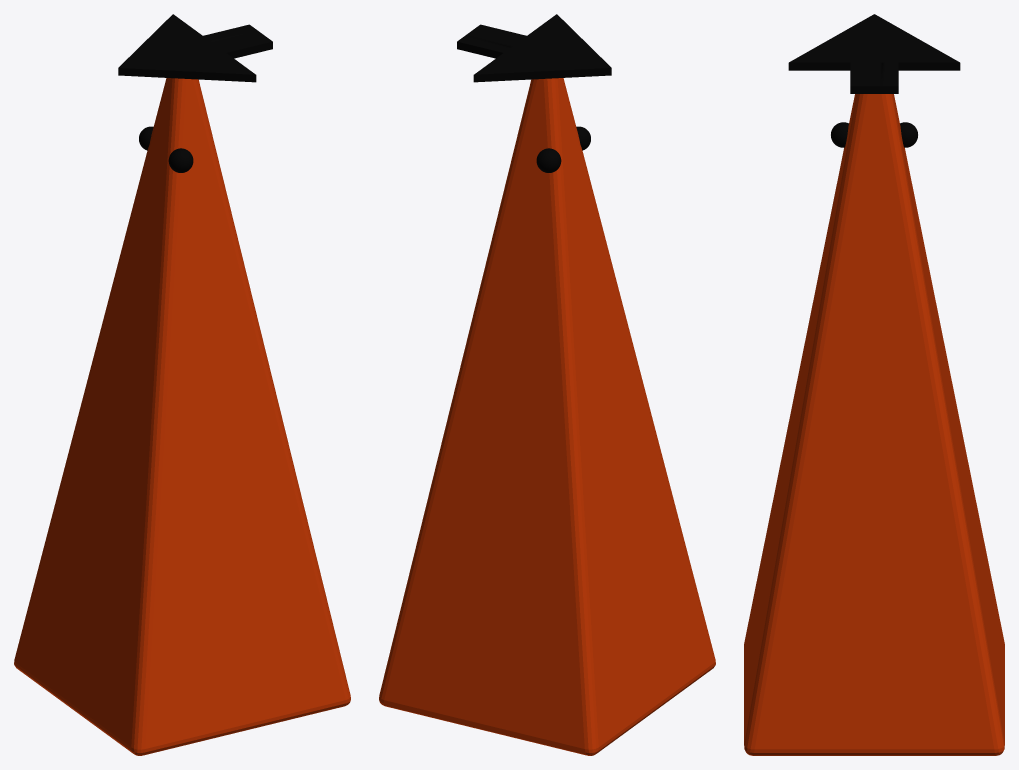
File: torange.obj
3 views of the same model, side by side, from view 1: azimuth 30°, elevation 25°; view 2: azimuth 150°, elevation 25°; view 3: azimuth 270°, elevation 25° (orthographic). The views are drawn at different scales.
Parts seen in each view (by area): view 1: Cube.019_Cube.002; view 2: Cube.019_Cube.002; view 3: Cube.019_Cube.002.
Boxes of the visible parts, <box> form: Cube.019_Cube.002: <box>14,14,350,755</box>; Cube.019_Cube.002: <box>379,14,715,755</box>; Cube.019_Cube.002: <box>744,14,1004,755</box>.
Size of the model in its own units: 0.1762 by 0.4901 by 0.1762.
